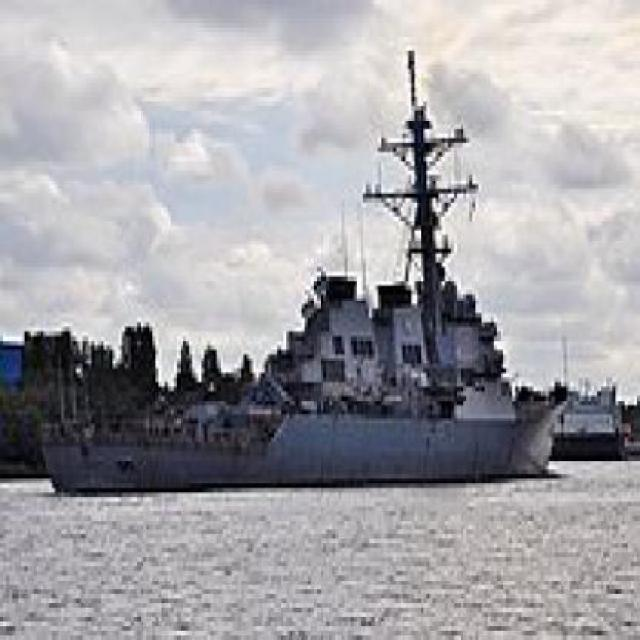warship2: (31, 24, 556, 526)
